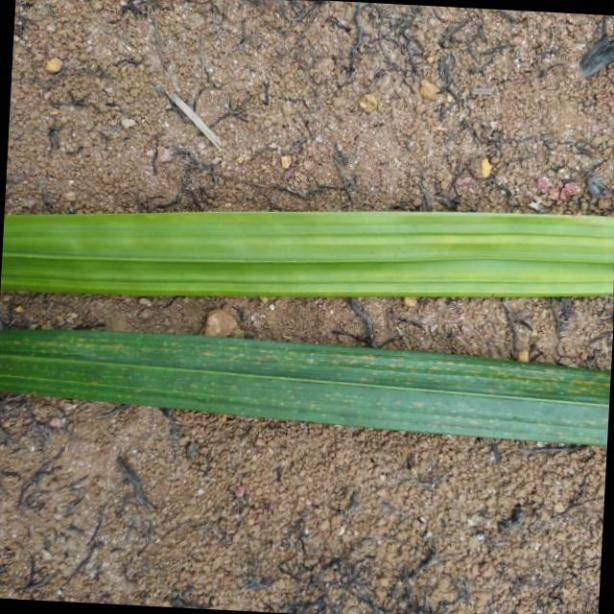nitrogen: (0, 323, 614, 446), (0, 213, 614, 302)
